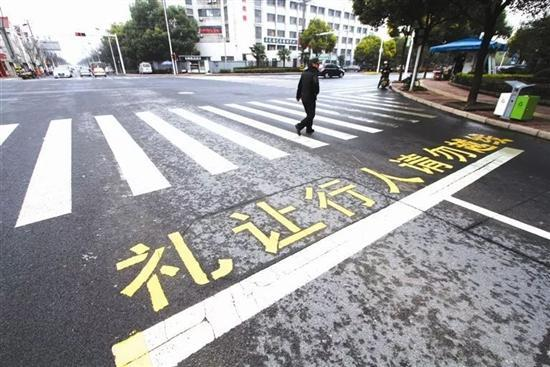car: (317, 62, 345, 79), (495, 63, 529, 74), (53, 65, 76, 78), (91, 65, 107, 77), (138, 62, 153, 74), (79, 67, 93, 77)
person: (294, 58, 321, 136), (378, 63, 392, 89)
